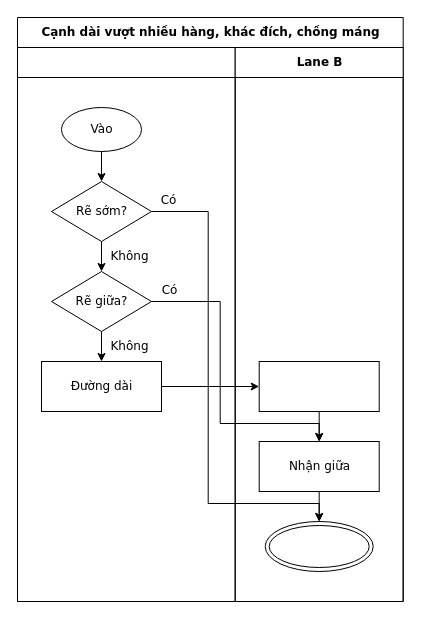
This 421x619 diagram has some shape labels left out. The shapes that lost their labels are listed below. From the top down, each one's box as (x1, y1, x2, y2) in pixels, then its label:
(16, 46, 235, 602): Lane A
(258, 360, 379, 412): Nhận cuối
(264, 520, 373, 572): Kết thúc
